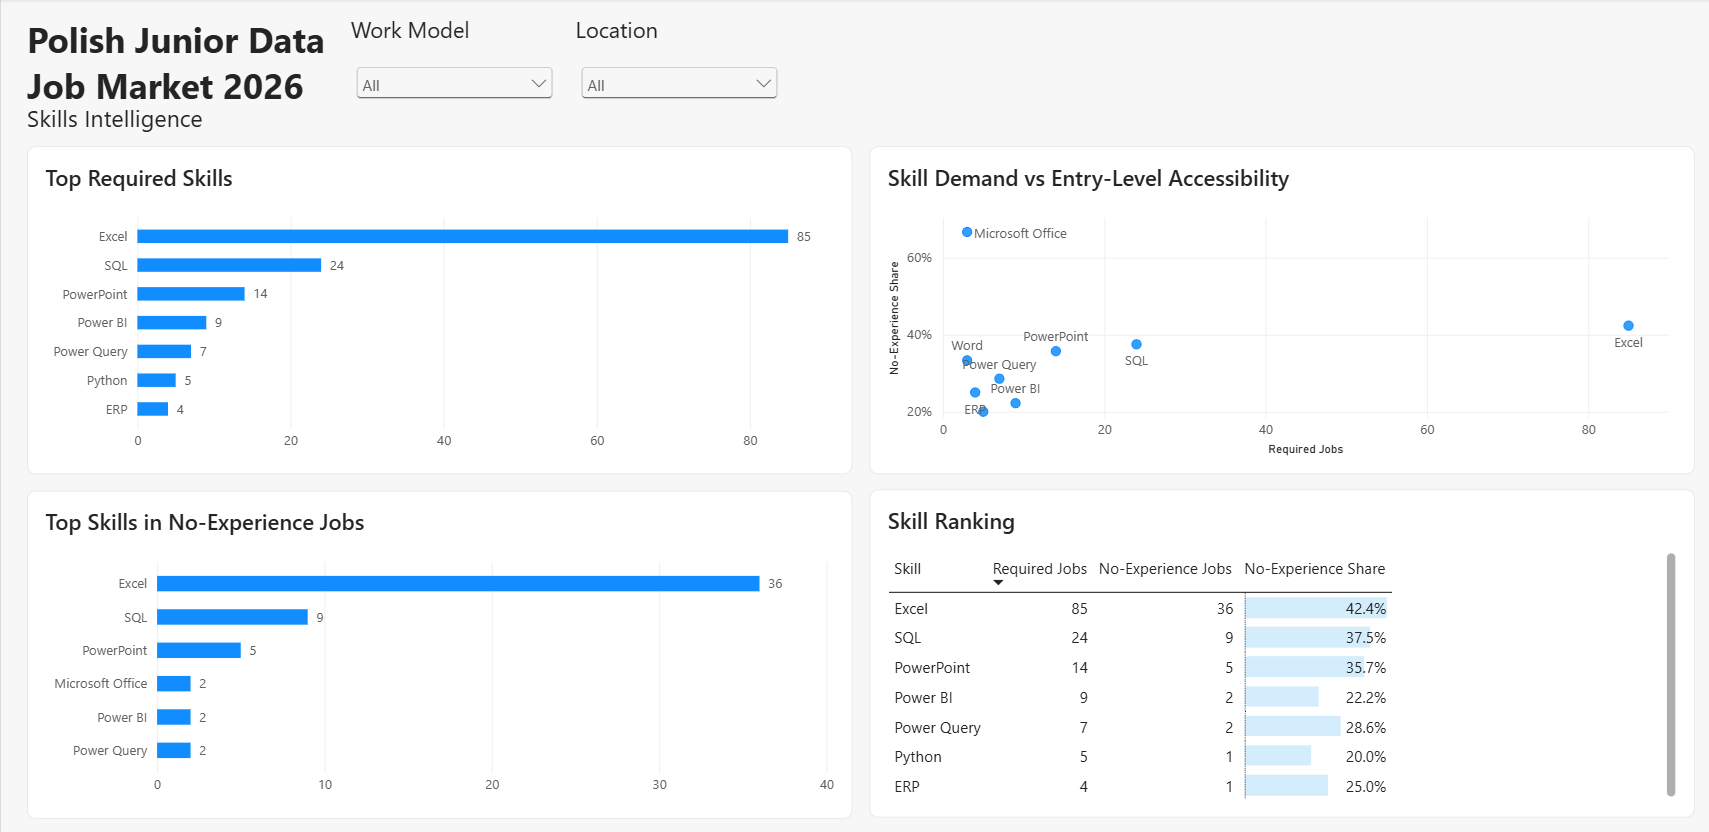

The page's visual inventory and layout, read from the dashboard file:
{"tool":"powerbi","page":{"name":"Skills Intelligence","canvas":[1920,1080],"ordinal":1},"visuals":[{"type":"clusteredBarChart","title":"Top Required Skills","fields":{"Category":["skills.skill_name"],"Y":["job_skills.Jobs Requiring Skill"]},"box":[24,135,755,300],"z":0},{"type":"clusteredBarChart","title":"Top Skills in No-Experience Jobs","fields":{"Category":["skills.skill_name"],"Y":["job_skills.Jobs Without Experience by Skill"]},"box":[24,450,755,300],"z":1000},{"type":"scatterChart","title":"Skill Demand vs Entry-Level Accessibility","fields":{"Category":["skills.skill_name"],"X":["job_skills.Jobs Requiring Skill"],"Y":["job_skills.No Experience Share by Skill"]},"box":[794,135,755,300],"z":2000},{"type":"tableEx","title":"Skill Ranking","fields":{"Values":["skills.skill_name","job_skills.Jobs Requiring Skill","job_skills.Jobs Without Experience by Skill","job_skills.No Experience Share by Skill"]},"box":[794.1,449.7,755,300],"z":3000},{"type":"textbox","box":[24,15,300,125],"z":4000},{"type":"slicer","title":"Work Model","fields":{"Values":["jobs.work_model"]},"box":[320,15,190,90],"z":5000},{"type":"slicer","title":"Location","fields":{"Values":["jobs.location"]},"box":[525,15,190,90],"z":6000},{"type":"textbox","box":[23.7,94.9,300,30],"z":7000}]}

Visuals, with their boxes on the page's 1920x1080 design canvas (x1, y1, x2, y2). These are canvas units, not pixel positions in the 1709x832 screenshot, which may show the page scaled, cropped or inside an application window:
"Top Required Skills" clusteredBarChart: box(24, 135, 779, 435)
"Top Skills in No-Experience Jobs" clusteredBarChart: box(24, 450, 779, 750)
"Skill Demand vs Entry-Level Accessibility" scatterChart: box(794, 135, 1549, 435)
"Skill Ranking" tableEx: box(794, 450, 1549, 750)
textbox: box(24, 15, 324, 140)
"Work Model" slicer: box(320, 15, 510, 105)
"Location" slicer: box(525, 15, 715, 105)
textbox: box(24, 95, 324, 125)
